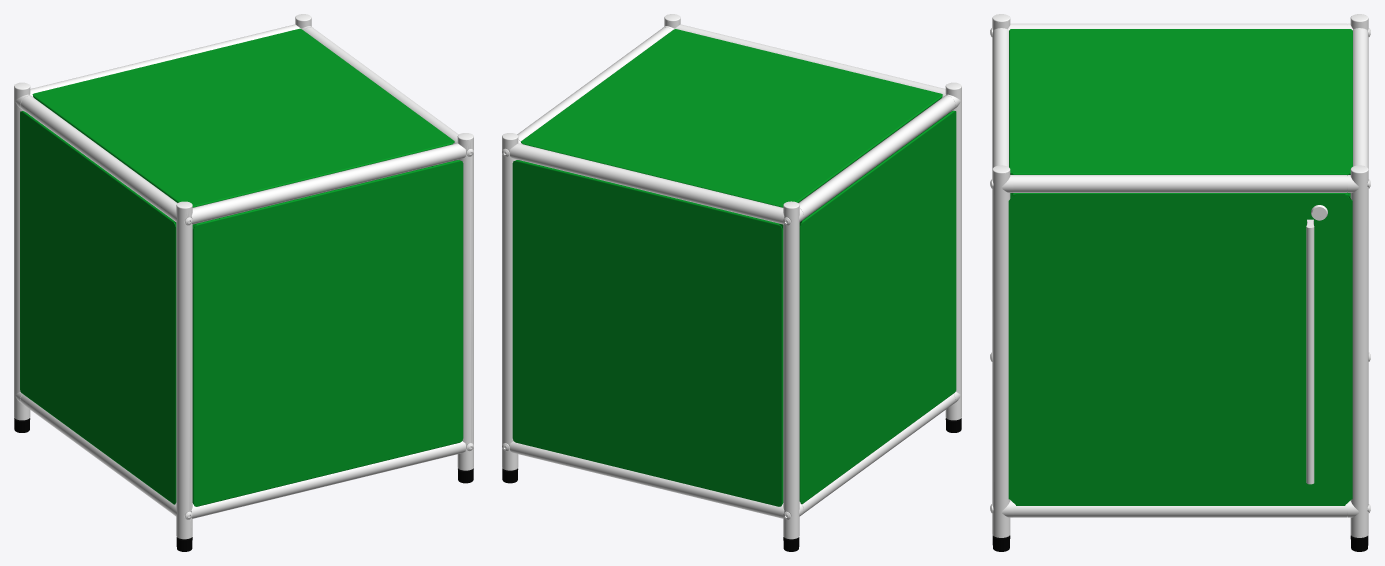
Rendered from 40x40x40-2-6-green_optimized_optimized.glb.
The picture shows the model from 3 angles, left to right: view 1: azimuth 30°, elevation 25°; view 2: azimuth 150°, elevation 25°; view 3: azimuth 270°, elevation 25°; orthographic projection. The views are drawn at different scales.
Parts seen in each view (by area): view 1: 直角鐵板-40x40-5 - 零件, 反-鐵管-40-354..4-1 - 零件, 圓形腳+調整器-1 - 零件; view 2: 直角鐵板-40x40-5 - 零件, 反-鐵管-40-354..4-1 - 零件, 圓形腳+調整器-1 - 零件; view 3: 直角鐵板-40x40-5 - 零件, 反-鐵管-40-354..4-1 - 零件, 圓形腳+調整器-1 - 零件.
Boxes of the visible parts, bbox=[...] form: 直角鐵板-40x40-5 - 零件: bbox=[20, 28, 463, 506]; 反-鐵管-40-354..4-1 - 零件: bbox=[14, 14, 473, 539]; 圓形腳+調整器-1 - 零件: bbox=[14, 418, 473, 551]; 直角鐵板-40x40-5 - 零件: bbox=[512, 29, 956, 506]; 反-鐵管-40-354..4-1 - 零件: bbox=[502, 14, 961, 539]; 圓形腳+調整器-1 - 零件: bbox=[502, 418, 961, 551]; 直角鐵板-40x40-5 - 零件: bbox=[1008, 29, 1352, 505]; 反-鐵管-40-354..4-1 - 零件: bbox=[990, 14, 1370, 537]; 圓形腳+調整器-1 - 零件: bbox=[992, 535, 1368, 551].
Bounding box in the file's own units: 0.4203 × 0.4453 × 0.4035.
